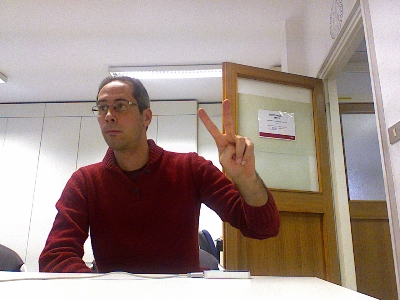剪刀: (196, 98, 255, 180)
